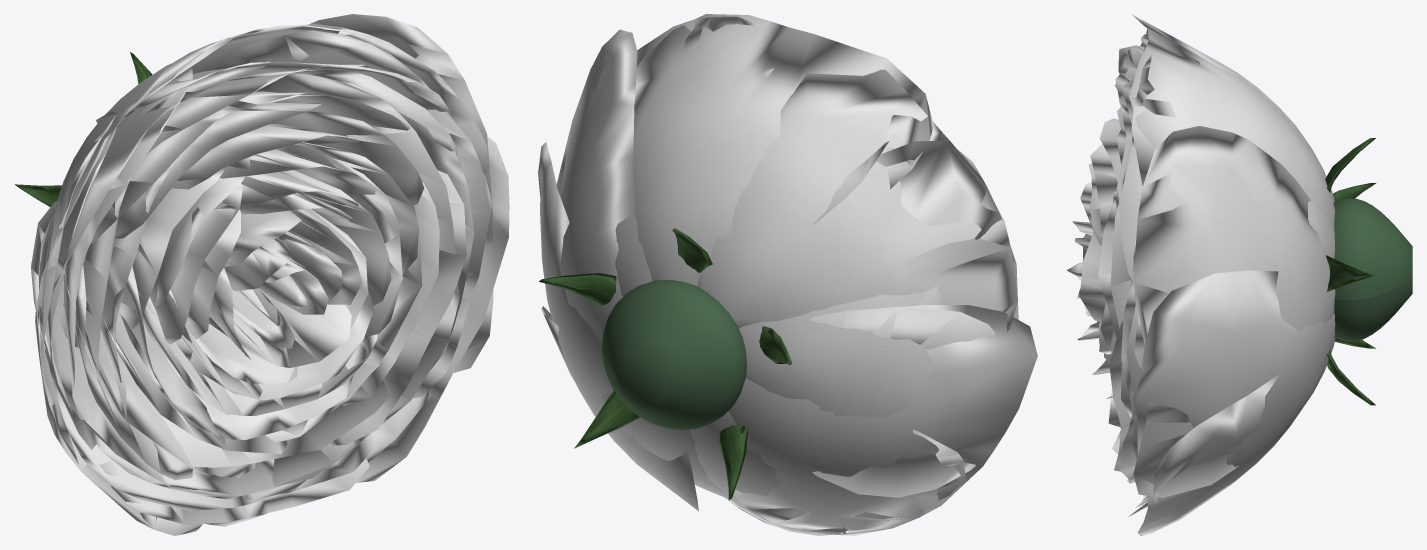
Rendered from rose-0.glb.
3 renders of one model, left to right at view 1: azimuth 30°, elevation 25°; view 2: azimuth 150°, elevation 25°; view 3: azimuth 270°, elevation 25°, orthographic. The views are drawn at different scales.
Parts seen in each view (by area): view 1: Rose_0_balanced_Petals, Rose_0_balanced_Sepals; view 2: Rose_0_balanced_Petals, Rose_0_balanced_Receptacle, Rose_0_balanced_Sepals; view 3: Rose_0_balanced_Petals, Rose_0_balanced_Receptacle, Rose_0_balanced_Sepals.
Boxes of the visible parts, box(x1,y1,x2,y2) form: Rose_0_balanced_Petals: box(31, 14, 509, 535); Rose_0_balanced_Sepals: box(15, 52, 152, 206); Rose_0_balanced_Petals: box(538, 14, 1037, 535); Rose_0_balanced_Receptacle: box(602, 280, 747, 429); Rose_0_balanced_Sepals: box(539, 228, 791, 500); Rose_0_balanced_Petals: box(1067, 14, 1335, 535); Rose_0_balanced_Receptacle: box(1333, 198, 1412, 341); Rose_0_balanced_Sepals: box(1325, 138, 1376, 405).
Size of the model in its own units: 0.7566 by 0.7421 by 0.5047.
Materials: 3 (2 with a texture image).
